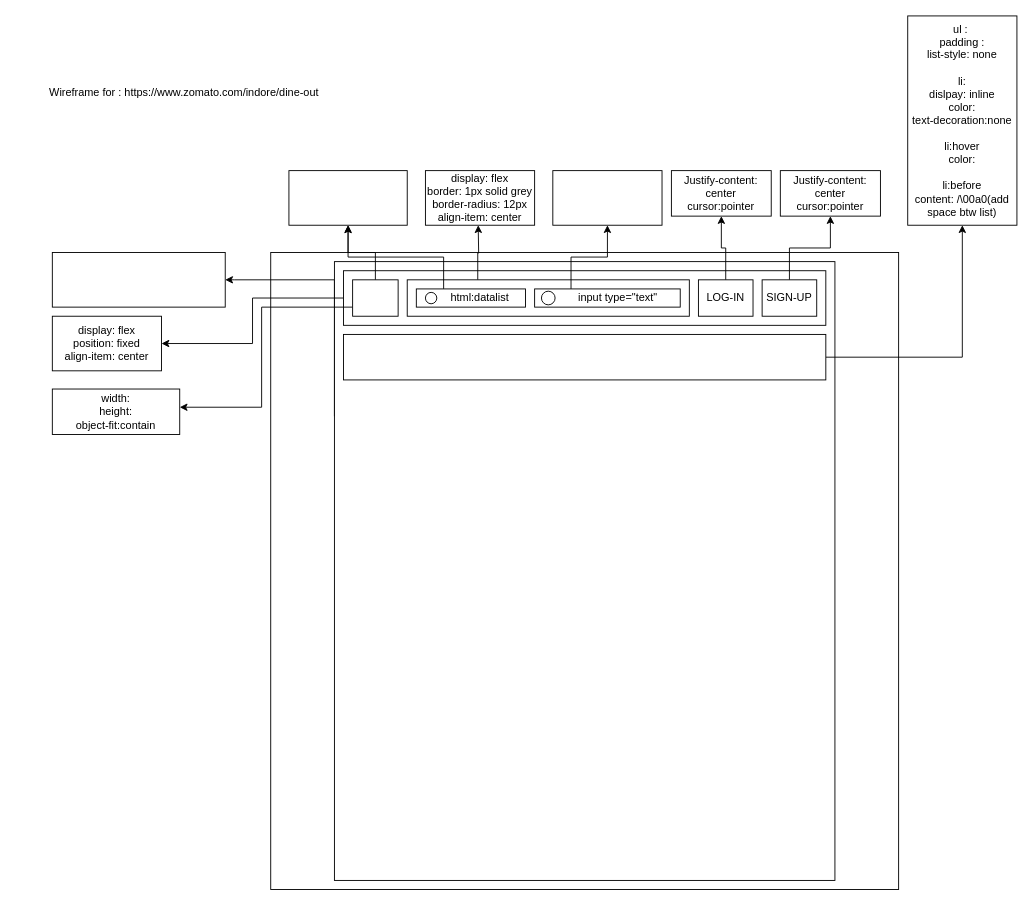
Some shapes in this 1033 by 905 pixel diagram are drawn without their labels. Here are the shapes that lost their labels. From the top down, the centre of each, then its label:
At (347,197): "Input type: datalist display: flex".
At (607,197): "display: flex".
At (138,279): "margin: 0 auto; width: 1094px; box-sizing: border-box;".
At (375,297): "LOGO".
At (584,357): "create breadcums <ul> <li> HOME / India / Indore Restaurant</li><ul>".
